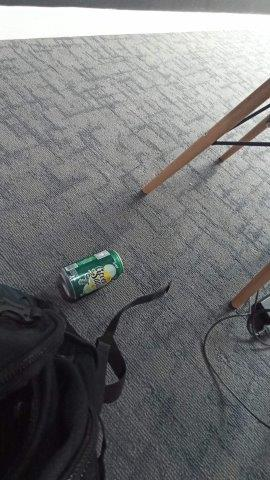kaleng: (59, 249, 124, 301)
